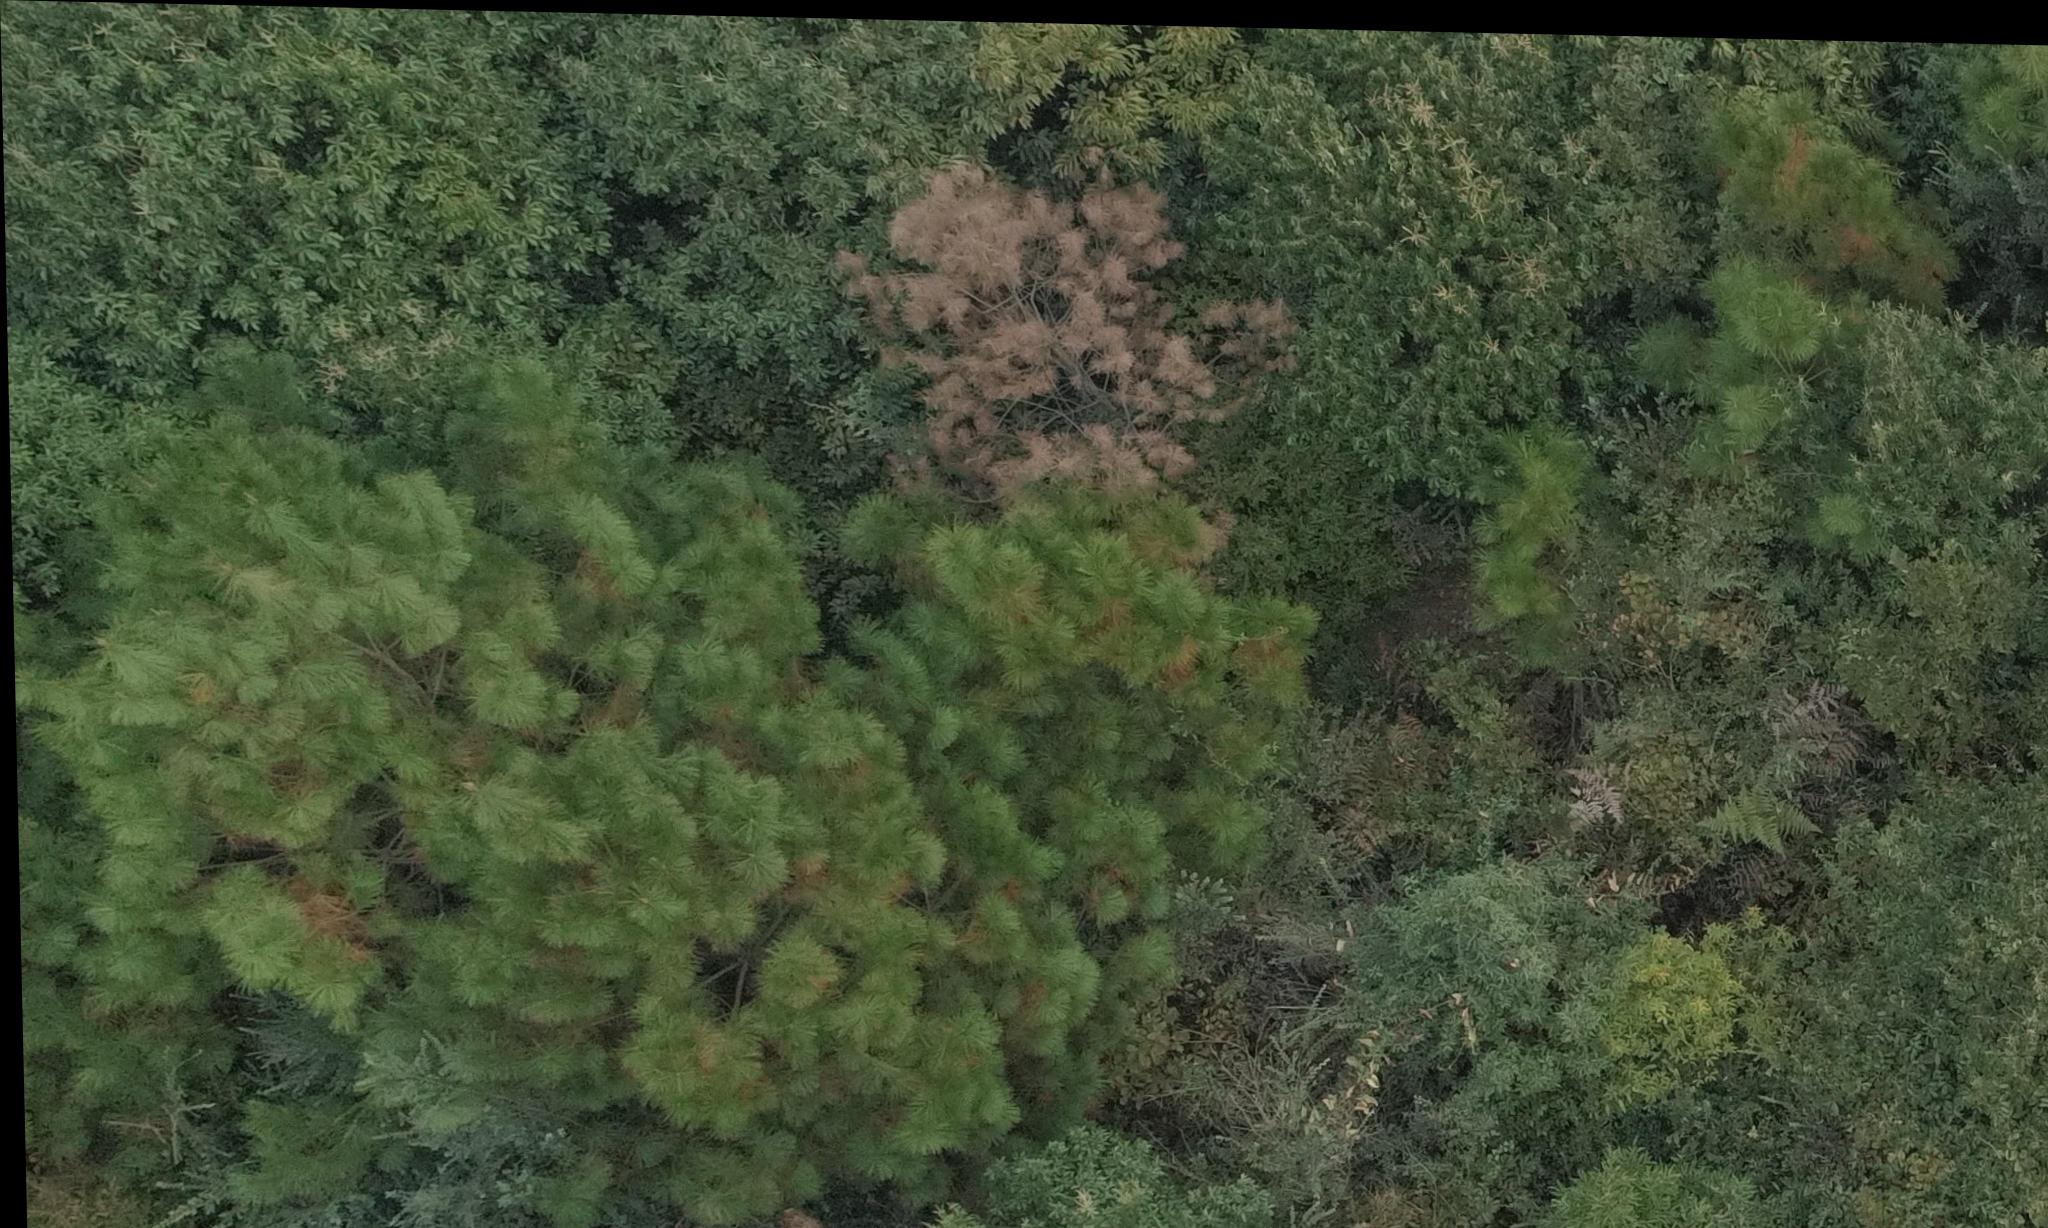heavy: (861, 148, 1288, 491)
light: (273, 509, 1304, 1094), (1728, 82, 1916, 276)
